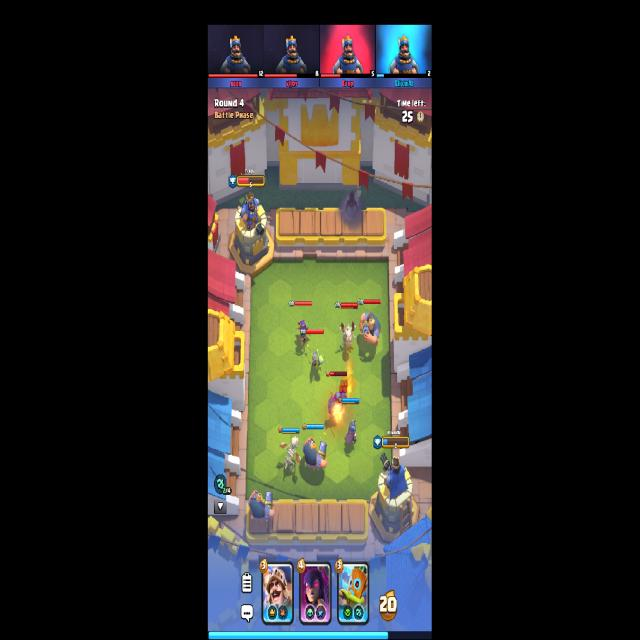archer_queen: (295, 320, 311, 348)
card_dart_goblin: (336, 562, 369, 625)
card_prince: (261, 562, 294, 625)
card_witch: (300, 561, 331, 624)
musketeer: (344, 419, 358, 446)
pekka: (329, 390, 347, 421)
royal_giant: (302, 436, 328, 470), (248, 490, 275, 521), (359, 312, 381, 347)
skeleton_dragon: (281, 436, 300, 468), (340, 322, 357, 348)
spear_goblin: (310, 349, 325, 373)
